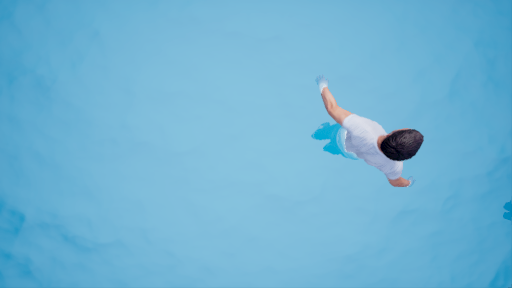person: (310, 75, 426, 194)
